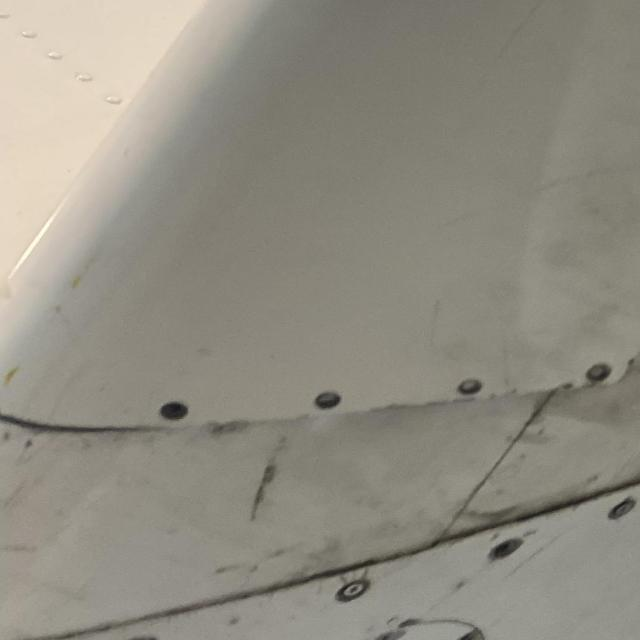Missing-head: (486, 538, 521, 562), (154, 400, 185, 422), (581, 363, 611, 385), (310, 391, 338, 410), (454, 378, 481, 397), (128, 638, 152, 640)
